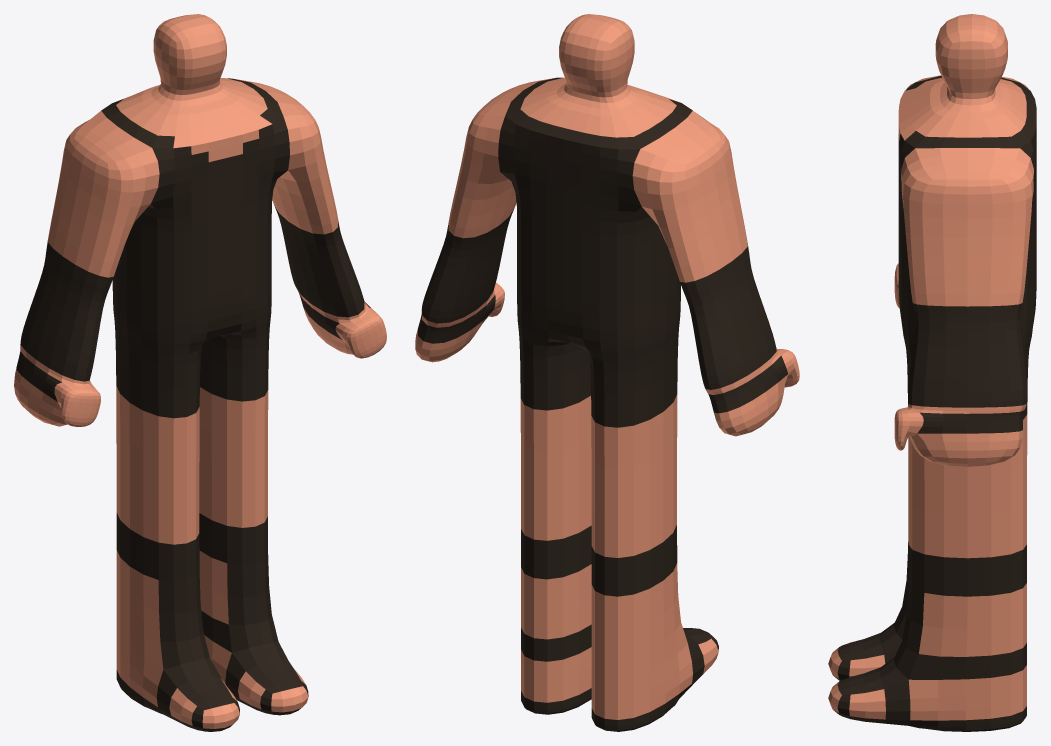
The model's file is theseus.fbx.
3 views of the same model, side by side, from view 1: azimuth 30°, elevation 25°; view 2: azimuth 150°, elevation 25°; view 3: azimuth 270°, elevation 25° (orthographic). The views are drawn at different scales.
Parts seen in each view (by area): view 1: Theseus; view 2: Theseus; view 3: Theseus.
Part boxes in pixels (x1=…): Theseus: x1=14, y1=14, x2=386, y2=731; Theseus: x1=415, y1=14, x2=799, y2=731; Theseus: x1=828, y1=14, x2=1036, y2=731.
Bounding box in the file's own units: 109 × 211 × 58.51.
